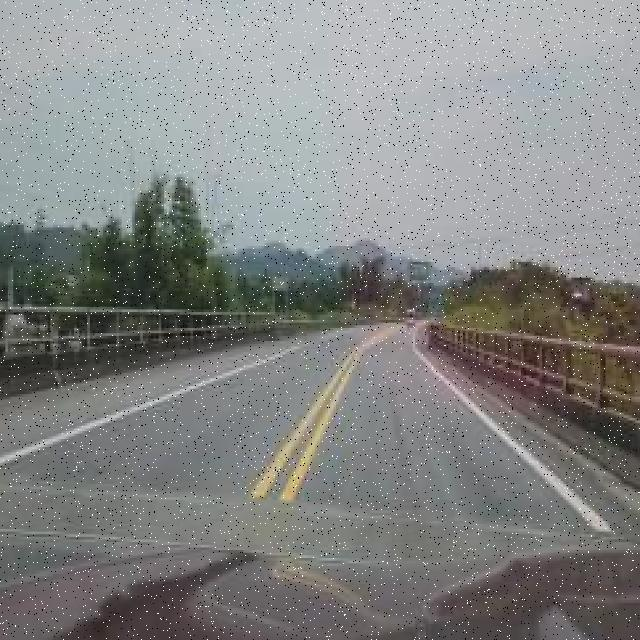clear-road: (0, 325, 640, 589)
